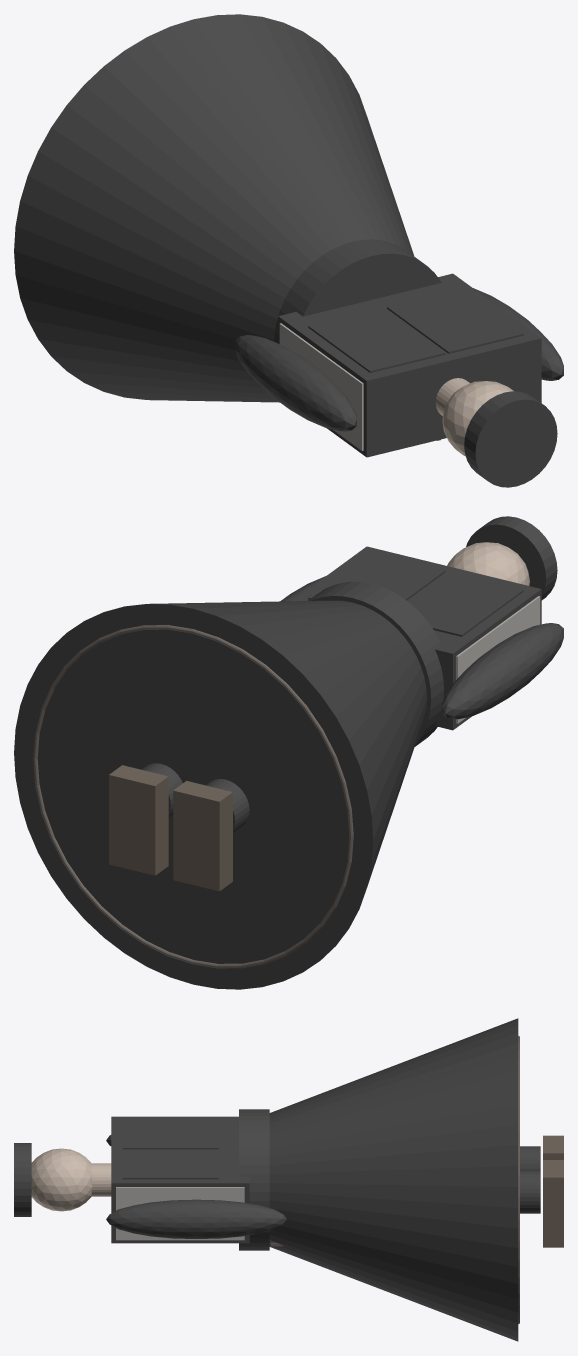
File: MASTER_038_STAGE3_DETAIL.glb
3 renders of one model, top to bottom at view 1: azimuth 30°, elevation 25°; view 2: azimuth 150°, elevation 25°; view 3: azimuth 270°, elevation 25°, orthographic. The views are drawn at different scales.
Parts seen in each view (by area): view 1: slot_lower_main__fund_i_gjatë, slot_upper_inner__këmishë, slot_waist__brez, slot_headwear__mbulesë_koke, slot_upper_inner_sleeve_L, slot_upper_outer__jelek/xhamadan_R, slot_upper_outer__jelek/xhamadan_L, mannequin_torso, mannequin_head, slot_upper_inner_sleeve_R; view 2: slot_lower_main__fund_i_gjatë, slot_footwear__opinga_L, slot_footwear__opinga_R, slot_upper_inner_sleeve_L, detail_skirt_hem, slot_waist__brez, slot_upper_inner__këmishë, slot_upper_outer__jelek/xhamadan_L, slot_headwear__mbulesë_koke, slot_upper_outer__jelek/xhamadan_R, mannequin_head, mannequin_torso (+2 smaller); view 3: slot_lower_main__fund_i_gjatë, slot_upper_inner_sleeve_R, slot_upper_inner__këmishë, mannequin_head, slot_waist__brez, slot_upper_outer__jelek/xhamadan_R, slot_upper_outer__jelek/xhamadan_L, mannequin_torso, slot_footwear__opinga_R, slot_headwear__mbulesë_koke, slot_legwear__çorape_R, mannequin_neck (+3 smaller).
Part boxes in pixels (x1,y1,x2,y2): slot_lower_main__fund_i_gjatë: [14, 14, 413, 402]; slot_upper_inner__këmishë: [278, 273, 541, 457]; slot_waist__brez: [274, 239, 441, 343]; slot_headwear__mbulesë_koke: [464, 391, 557, 487]; slot_upper_inner_sleeve_L: [235, 335, 356, 431]; slot_upper_outer__jelek/xhamadan_R: [387, 288, 523, 353]; slot_upper_outer__jelek/xhamadan_L: [308, 307, 445, 372]; mannequin_torso: [279, 323, 363, 450]; mannequin_head: [442, 381, 513, 456]; slot_upper_inner_sleeve_R: [473, 288, 563, 380]; slot_lower_main__fund_i_gjatë: [14, 600, 426, 989]; slot_footwear__opinga_L: [173, 780, 232, 891]; slot_footwear__opinga_R: [109, 765, 168, 875]; slot_upper_inner_sleeve_L: [442, 623, 563, 719]; detail_skirt_hem: [33, 625, 353, 968]; slot_waist__brez: [308, 581, 443, 746]; slot_upper_inner__këmishë: [292, 546, 541, 730]; slot_upper_outer__jelek/xhamadan_L: [408, 571, 523, 636]; slot_headwear__mbulesë_koke: [466, 516, 557, 600]; slot_upper_outer__jelek/xhamadan_R: [308, 552, 445, 600]; mannequin_head: [447, 542, 529, 585]; mannequin_torso: [456, 596, 540, 723]; slot_lower_main__fund_i_gjatë: [269, 1018, 518, 1341]; slot_upper_inner_sleeve_R: [106, 1199, 286, 1238]; slot_upper_inner__këmishë: [111, 1116, 249, 1243]; mannequin_head: [31, 1148, 92, 1211]; slot_waist__brez: [239, 1109, 269, 1250]; slot_upper_outer__jelek/xhamadan_R: [122, 1149, 218, 1179]; slot_upper_outer__jelek/xhamadan_L: [122, 1119, 218, 1149]; mannequin_torso: [116, 1187, 244, 1240]; slot_footwear__opinga_R: [543, 1160, 563, 1247]; slot_headwear__mbulesë_koke: [14, 1143, 31, 1216]; slot_legwear__çorape_R: [520, 1170, 540, 1213]; mannequin_neck: [91, 1163, 111, 1196].
Bounding box in the file's own units: 1.01 × 1.01 × 1.71.
